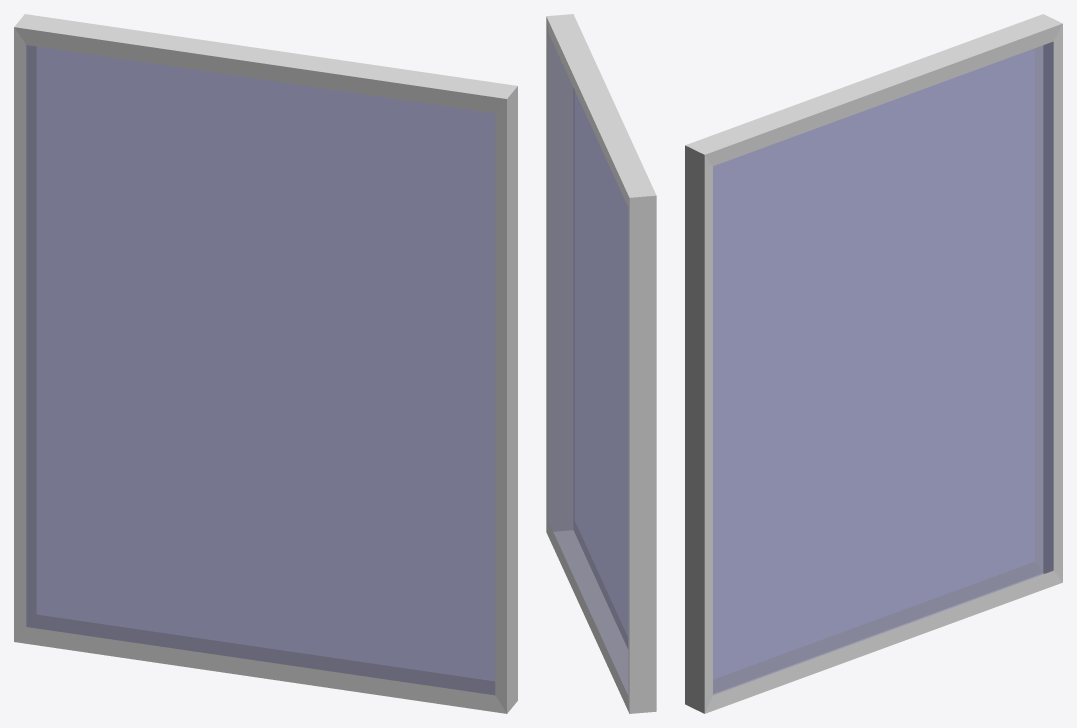
The model's file is sliding door.fbx.
The picture shows the model from 3 angles, left to right: view 1: azimuth 30°, elevation 25°; view 2: azimuth 150°, elevation 25°; view 3: azimuth 270°, elevation 25°; orthographic projection. The views are drawn at different scales.
Parts seen in each view (by area): view 1: sliding door; view 2: sliding door; view 3: sliding door.
Part boxes in pixels (left/top/right/bottom): sliding door: left=14, top=14, right=517, bottom=713; sliding door: left=546, top=14, right=656, bottom=713; sliding door: left=685, top=14, right=1062, bottom=713.
Size of the model in its own units: 419 by 775 by 474.
